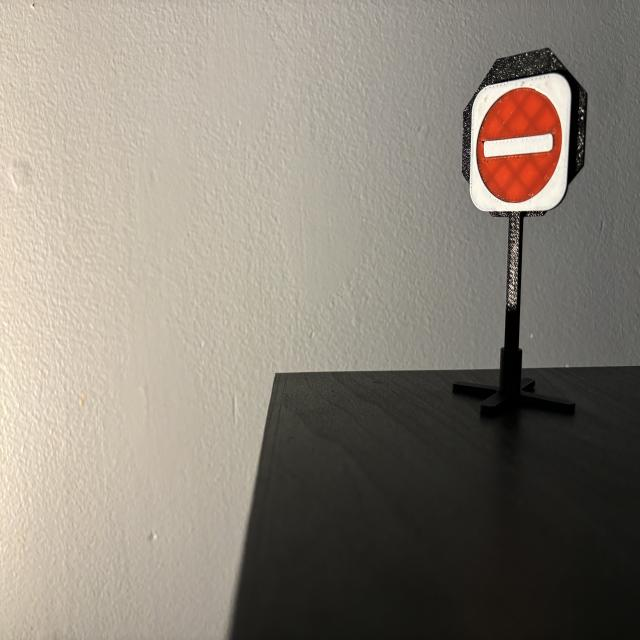sign_noentry: (471, 76, 572, 212)
